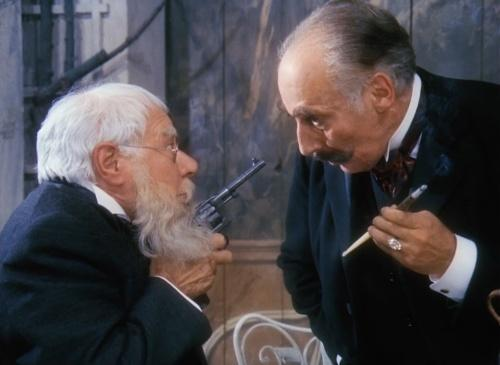Gun: (191, 159, 268, 237)
